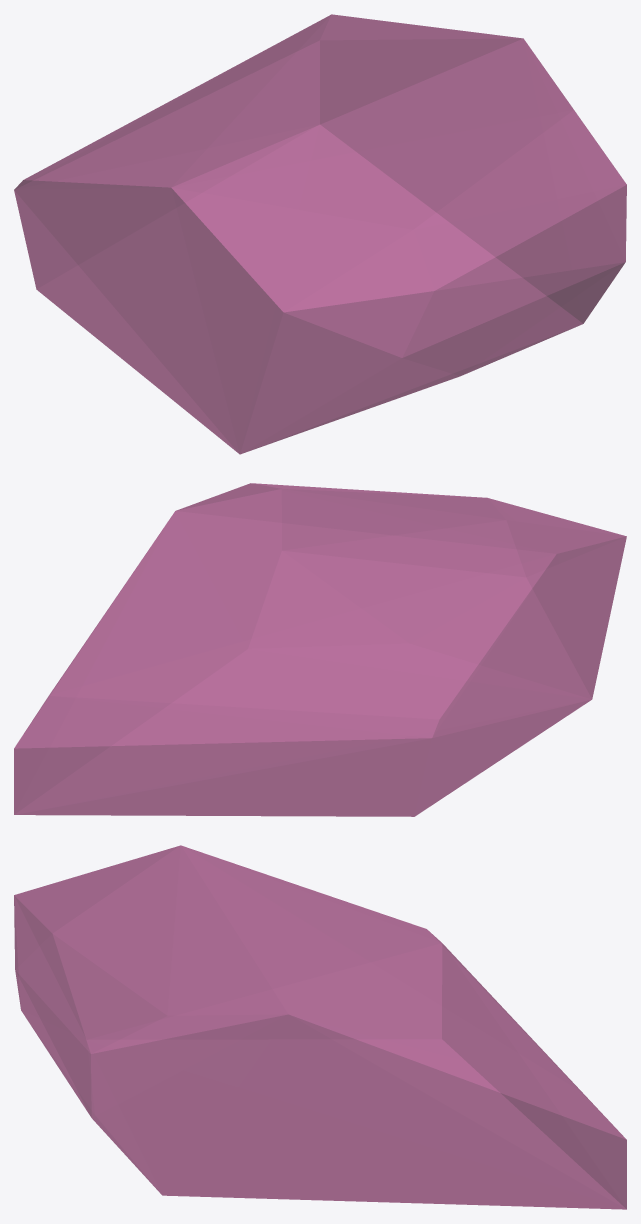
3 views of the same model, one above another, from view 1: azimuth 30°, elevation 25°; view 2: azimuth 150°, elevation 25°; view 3: azimuth 270°, elevation 25° (orthographic). The views are drawn at different scales.
Parts seen in each view (by area): view 1: Shape_IndexedFaceSet.007_Shape_IndexedFaceSet.4353; view 2: Shape_IndexedFaceSet.007_Shape_IndexedFaceSet.4353; view 3: Shape_IndexedFaceSet.007_Shape_IndexedFaceSet.4353.
Boxes of the visible parts, x1,y1,x2,y2 form: Shape_IndexedFaceSet.007_Shape_IndexedFaceSet.4353: [14, 14, 626, 454]; Shape_IndexedFaceSet.007_Shape_IndexedFaceSet.4353: [14, 483, 626, 816]; Shape_IndexedFaceSet.007_Shape_IndexedFaceSet.4353: [14, 845, 626, 1209].
Bounding box in the file's own units: 0.1661 × 0.0895 × 0.2546.
